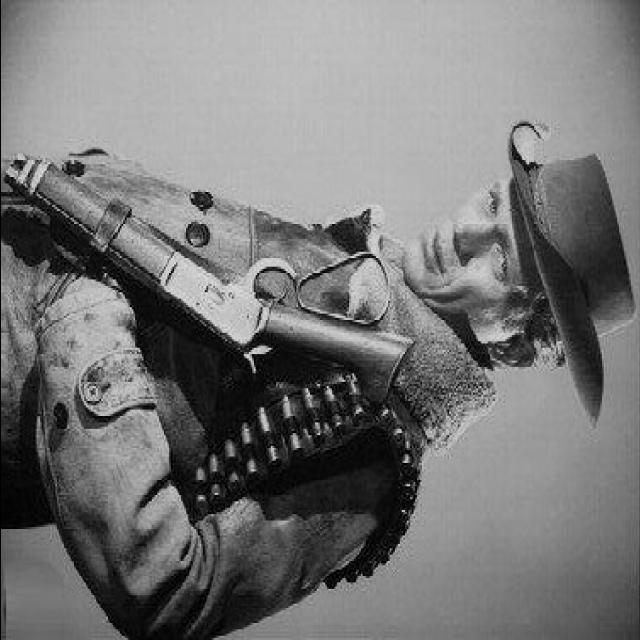handgun: (16, 147, 393, 416)
